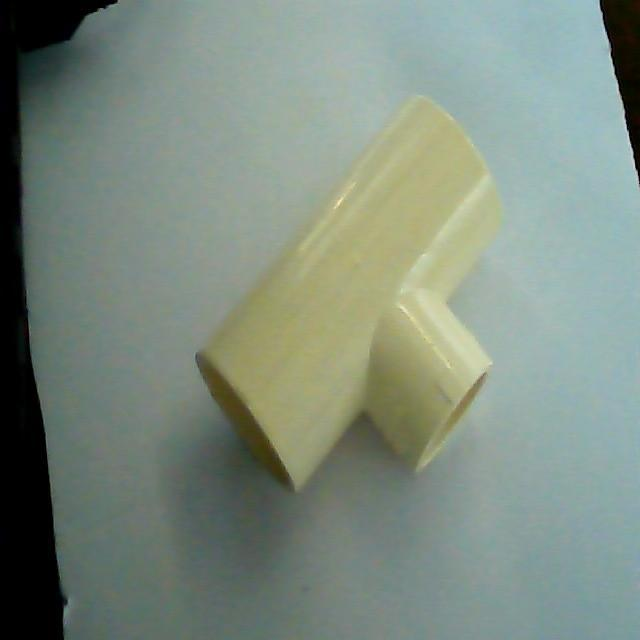T Joint: (195, 95, 506, 496)
